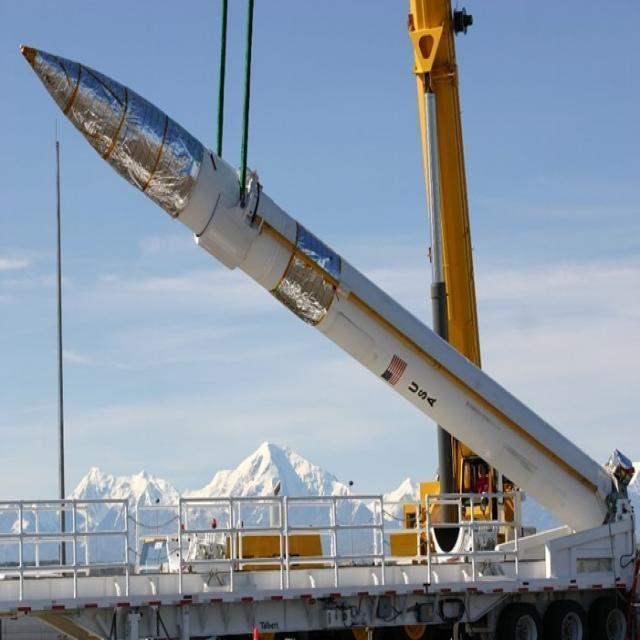missile: (14, 39, 632, 530)
